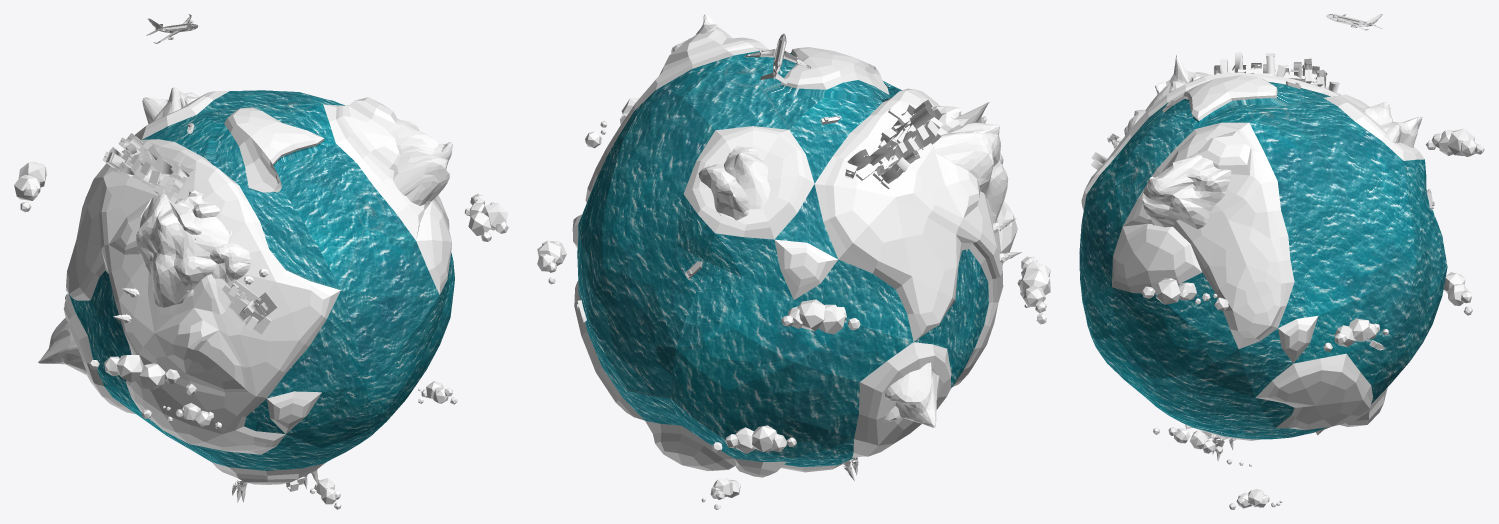
File: earth.gltf
3 renders of one model, left to right at view 1: azimuth 30°, elevation 25°; view 2: azimuth 150°, elevation 25°; view 3: azimuth 270°, elevation 25°, orthographic. The views are drawn at different scales.
Parts seen in each view (by area): view 1: Earth_body_Untitled.048, Mount_3_Untitled.145, Mount_7_Untitled.175, Mount_Untitled.012, Mount_4_Untitled.150, Mount_5_Untitled.252, Sphere_3_5_Untitled.244; view 2: Earth_body_Untitled.048, Mount_3_Untitled.145, Mount_Untitled.012, Mount_2_Untitled.017, Mount_6_Untitled.236, Mount_5_Untitled.252, Cylinder_5_Untitled.067, Sphere_3_3_Untitled.149; view 3: Earth_body_Untitled.048, Mount_7_Untitled.175, Mount_6_Untitled.236, Mount_5_Untitled.252, Sphere_3_6_Untitled.211, Mount_2_Untitled.017.
Part boxes in pixels (<box>): Earth_body_Untitled.048: <box>63,90,454,484</box>; Mount_3_Untitled.145: <box>135,193,231,307</box>; Mount_7_Untitled.175: <box>386,119,452,209</box>; Mount_Untitled.012: <box>38,318,88,375</box>; Mount_4_Untitled.150: <box>210,242,250,282</box>; Mount_5_Untitled.252: <box>169,190,226,234</box>; Sphere_3_5_Untitled.244: <box>116,355,143,382</box>; Earth_body_Untitled.048: <box>572,29,1017,477</box>; Mount_3_Untitled.145: <box>934,114,1008,222</box>; Mount_Untitled.012: <box>882,362,939,427</box>; Mount_2_Untitled.017: <box>719,146,770,215</box>; Mount_6_Untitled.236: <box>698,164,749,220</box>; Mount_5_Untitled.252: <box>932,102,989,132</box>; Cylinder_5_Untitled.067: <box>744,33,810,84</box>; Sphere_3_3_Untitled.149: <box>797,299,825,331</box>; Earth_body_Untitled.048: <box>1079,72,1447,440</box>; Mount_7_Untitled.175: <box>1142,152,1231,229</box>; Mount_6_Untitled.236: <box>1381,116,1422,147</box>; Mount_5_Untitled.252: <box>1155,54,1201,93</box>; Sphere_3_6_Untitled.211: <box>1156,280,1180,304</box>; Mount_2_Untitled.017: <box>1360,102,1414,148</box>.
Size of the model in its own units: 110 by 122 by 99.28.
11 materials, 1 textured.
